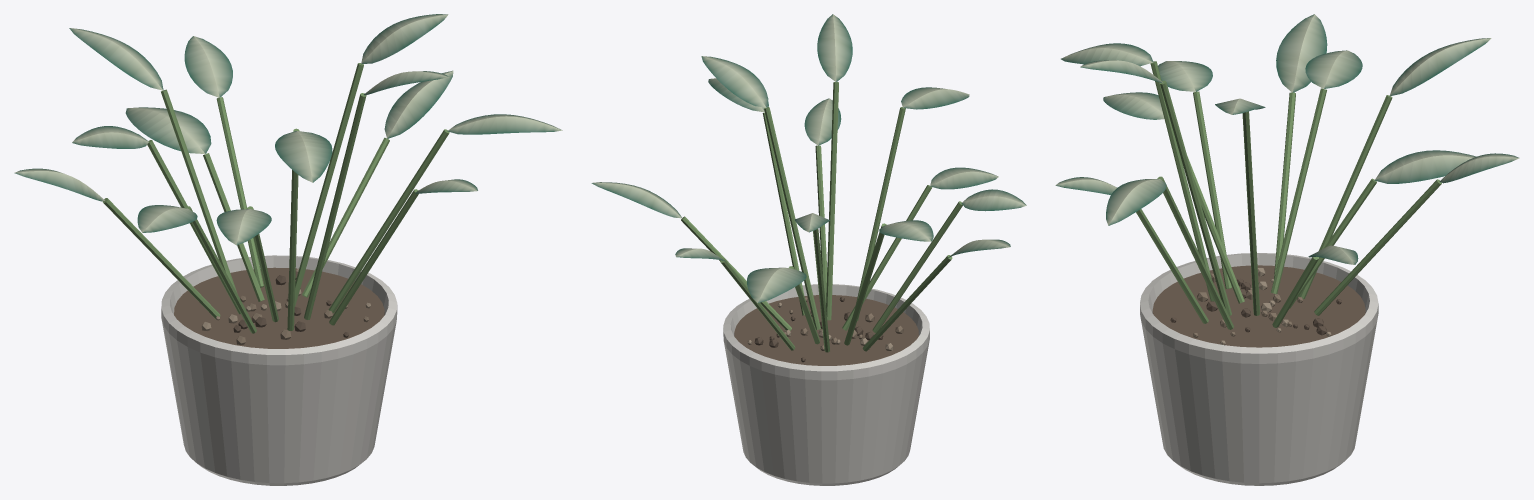
Rendered from alocasia_LUMA_3D.glb.
The picture shows the model from 3 angles, left to right: view 1: azimuth 30°, elevation 25°; view 2: azimuth 150°, elevation 25°; view 3: azimuth 270°, elevation 25°; orthographic projection. The views are drawn at different scales.
Visible parts, largest first — view 1: world; view 2: world; view 3: world.
Part boxes in pixels (x1,y1,x2,y2): world: (14, 14, 562, 485); world: (591, 14, 1026, 485); world: (1055, 14, 1519, 485).
Size of the model in its own units: 1.89 by 1.63 by 1.64.
